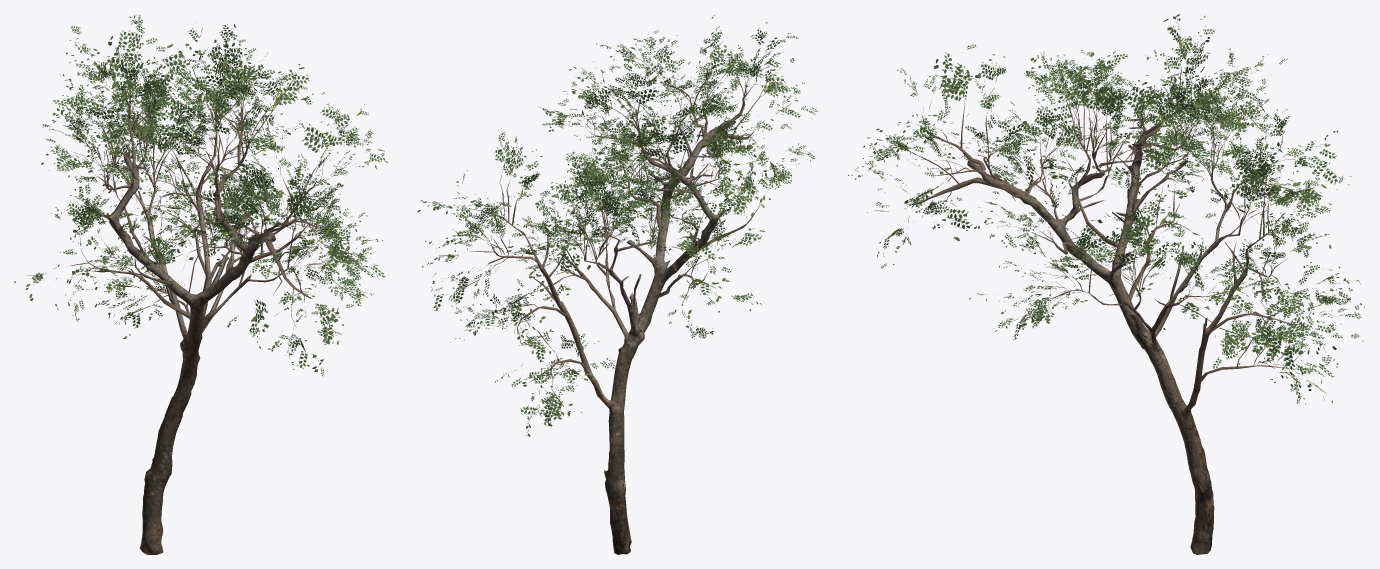
Rendered from tree_small_02_derived.fbx.
3 views of the same model, side by side, from view 1: azimuth 30°, elevation 25°; view 2: azimuth 150°, elevation 25°; view 3: azimuth 270°, elevation 25° (orthographic). The views are drawn at different scales.
Visible parts, largest first — view 1: tree_leaves, tree_trunk, tree_branches; view 2: tree_leaves, tree_trunk, tree_branches; view 3: tree_leaves, tree_trunk, tree_branches.
Part boxes in pixels (bbox=[...]): tree_leaves: bbox=[14, 15, 387, 376]; tree_trunk: bbox=[82, 152, 297, 554]; tree_branches: bbox=[70, 54, 362, 334]; tree_leaves: bbox=[417, 14, 817, 436]; tree_trunk: bbox=[525, 121, 735, 554]; tree_branches: bbox=[451, 49, 791, 394]; tree_leaves: bbox=[848, 14, 1364, 404]; tree_trunk: bbox=[967, 118, 1249, 554]; tree_branches: bbox=[884, 39, 1332, 382].
Bounding box in the file's own units: 289 × 456 × 424.
